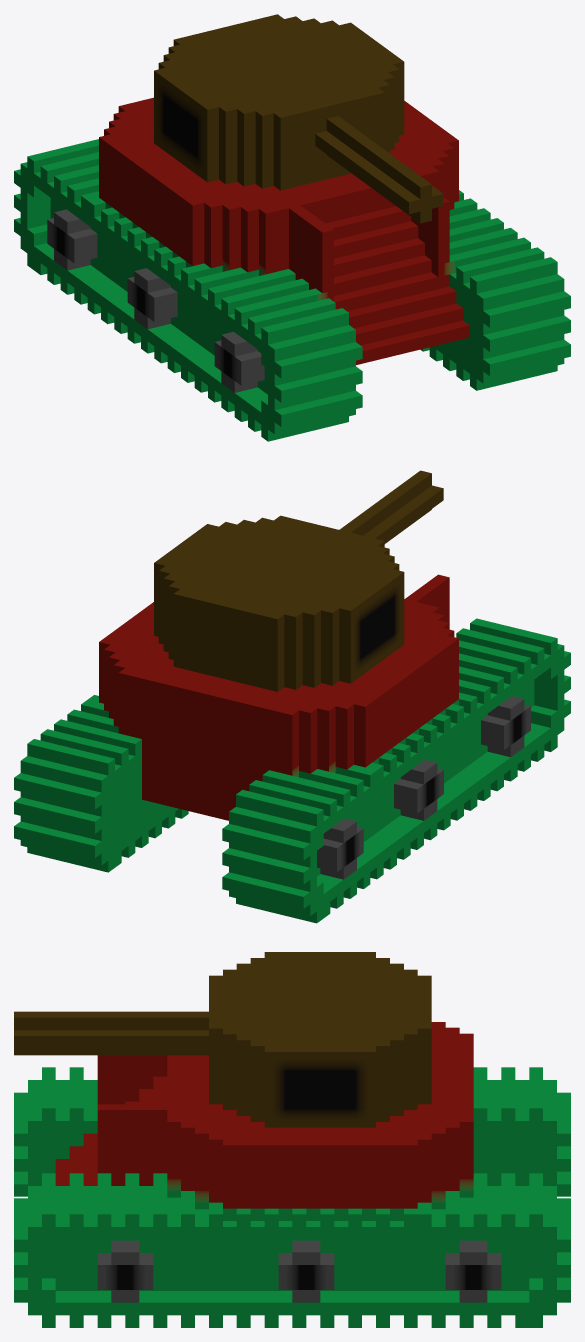
The model's file is Car_22.fbx.
3 views of the same model, one above another, from view 1: azimuth 30°, elevation 25°; view 2: azimuth 150°, elevation 25°; view 3: azimuth 270°, elevation 25° (orthographic). The views are drawn at different scales.
Parts seen in each view (by area): view 1: Car_22; view 2: Car_22; view 3: Car_22.
Boxes of the visible parts, <box> form: Car_22: <box>14,14,570,441</box>; Car_22: <box>14,470,570,923</box>; Car_22: <box>14,952,570,1327</box>.
Bounding box in the file's own units: 25 × 20 × 40.
Materials: 1 (1 with a texture image).
